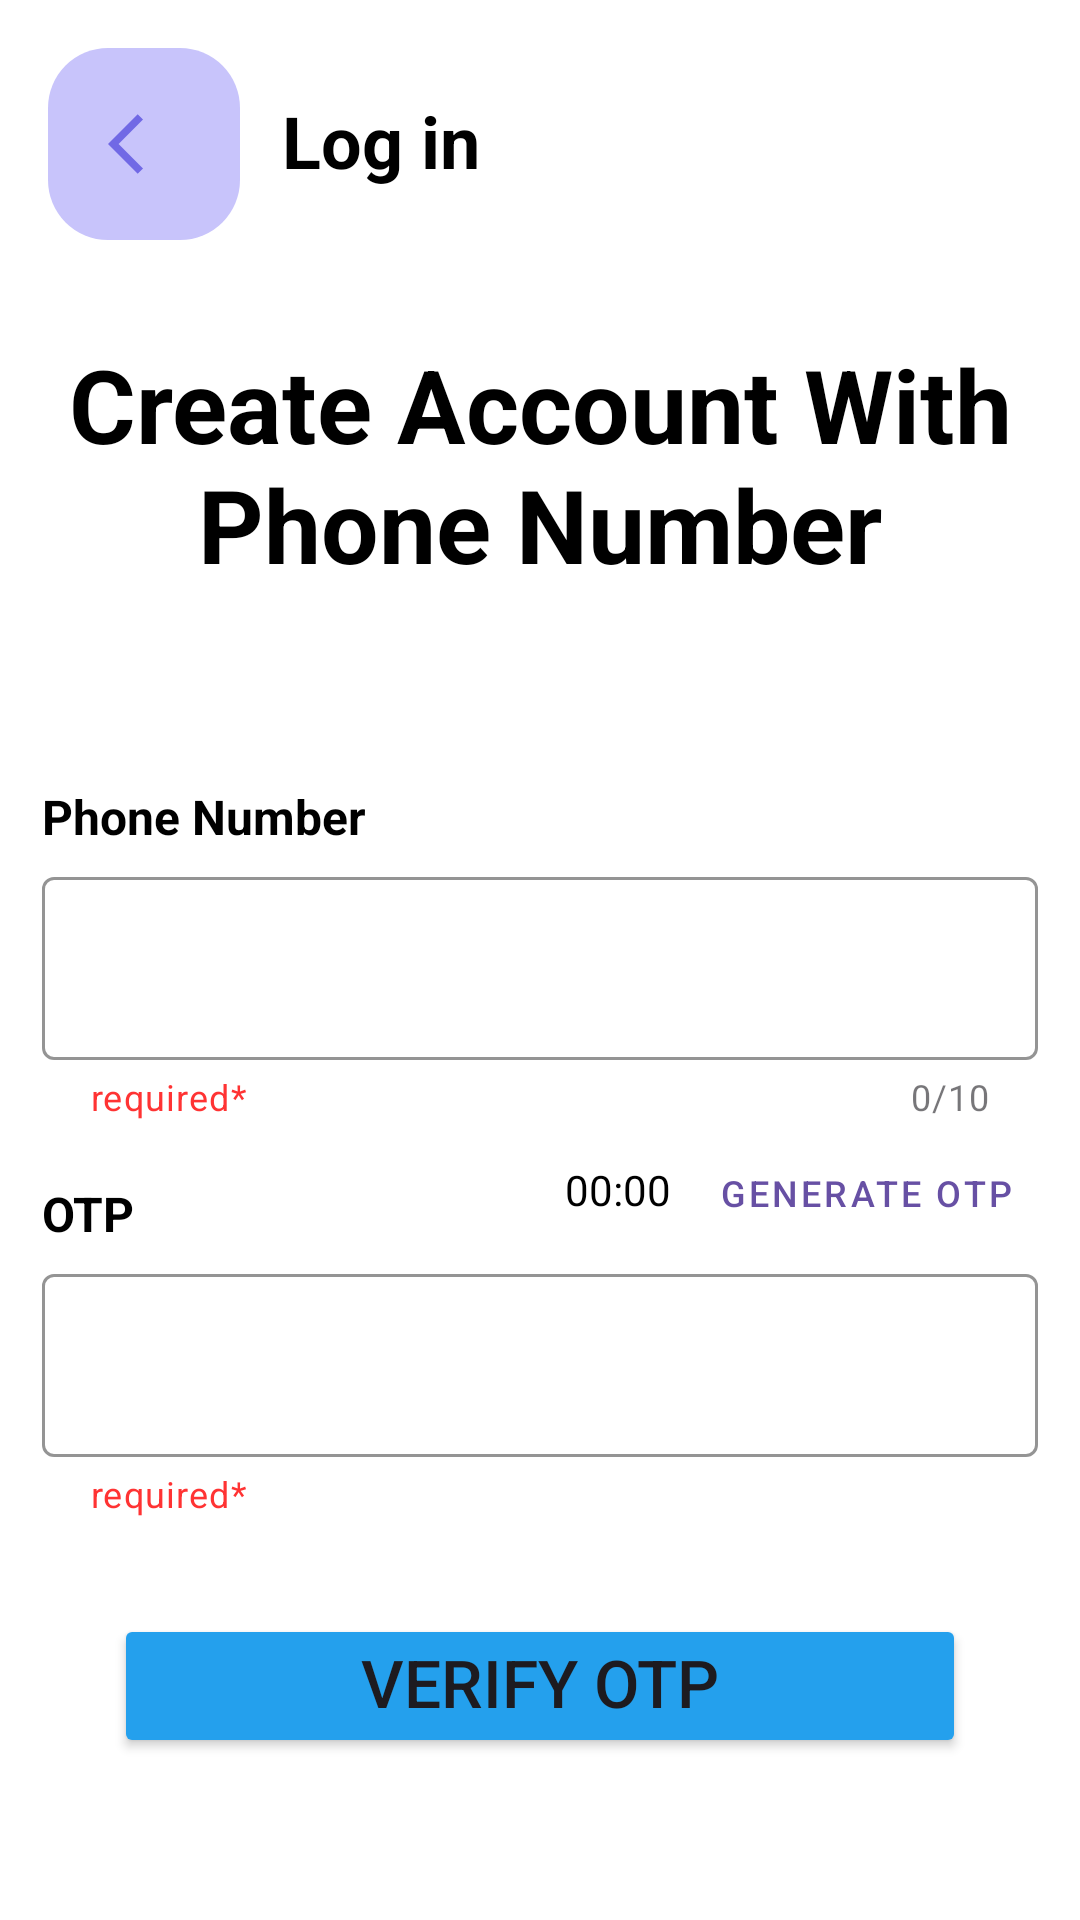

Screen size 1080px×1920px. Icon name, then its box in pixels as (x1, y1, x2, y2):
Back to welcome page: (48, 48, 240, 240)
